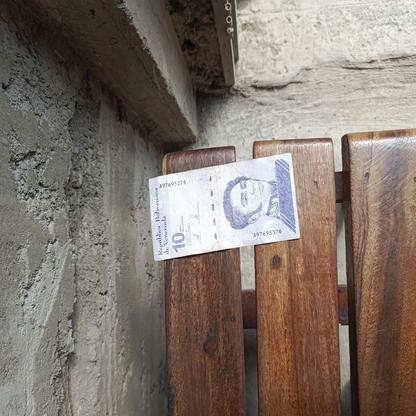ten-front-vef: (150, 152, 300, 262)
